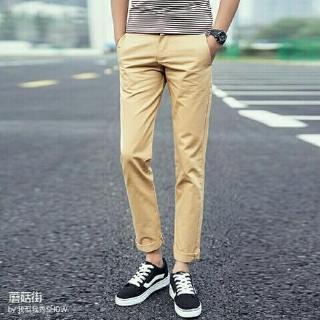short sleeve top: (125, 1, 213, 35)
trousers: (117, 20, 212, 262)
